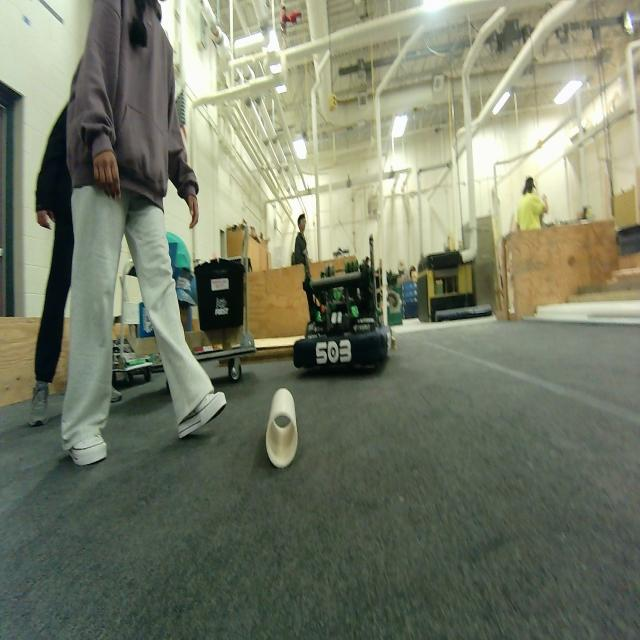coral: (266, 388, 298, 468)
